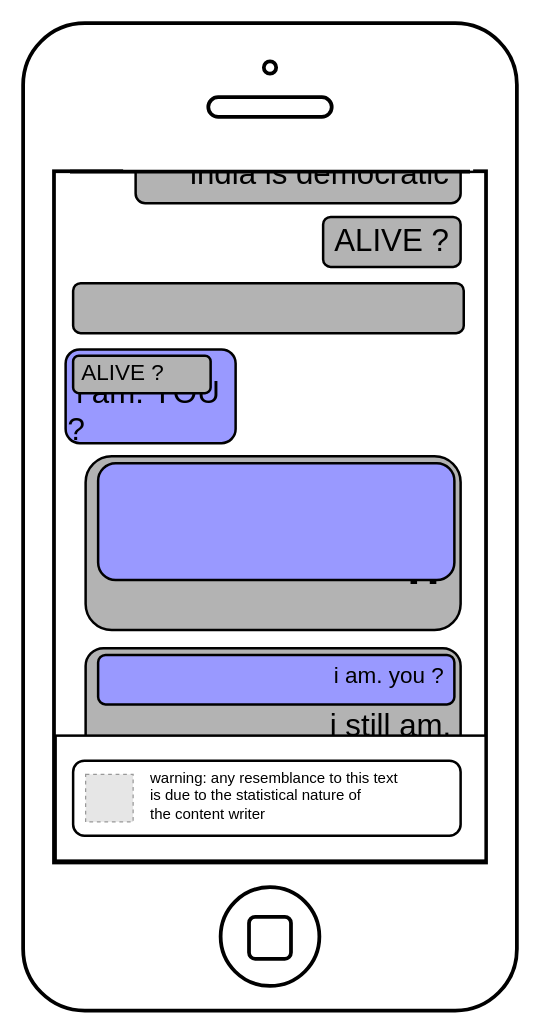
Image size: 540x1034. Some labels were removed from this diagram. Grey dashed boxes stand in for pictures. Here are the shapes that lost their labels. From the top down, the centre of each, then its label:
At [267,307]: "flatten the chat #37?".
At [275,521]: "linking to old texts the same way unix deals with directories is cool".
